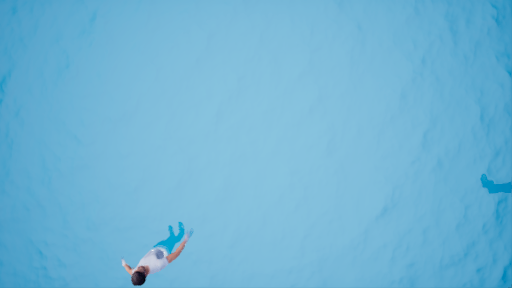person: (121, 221, 204, 282)
